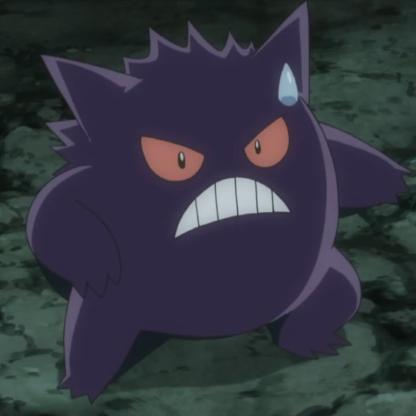Gengar: (14, 4, 416, 409)
